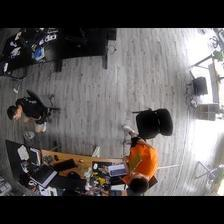normal: (117, 121, 162, 192), (5, 87, 53, 142)
